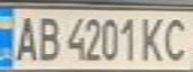0: (100, 15, 121, 62)
1: (118, 14, 139, 62)
2: (81, 14, 103, 62)
4: (63, 12, 84, 62)
A: (9, 11, 39, 63)
B: (33, 12, 63, 62)
C: (160, 14, 193, 63)
K: (136, 14, 169, 63)
